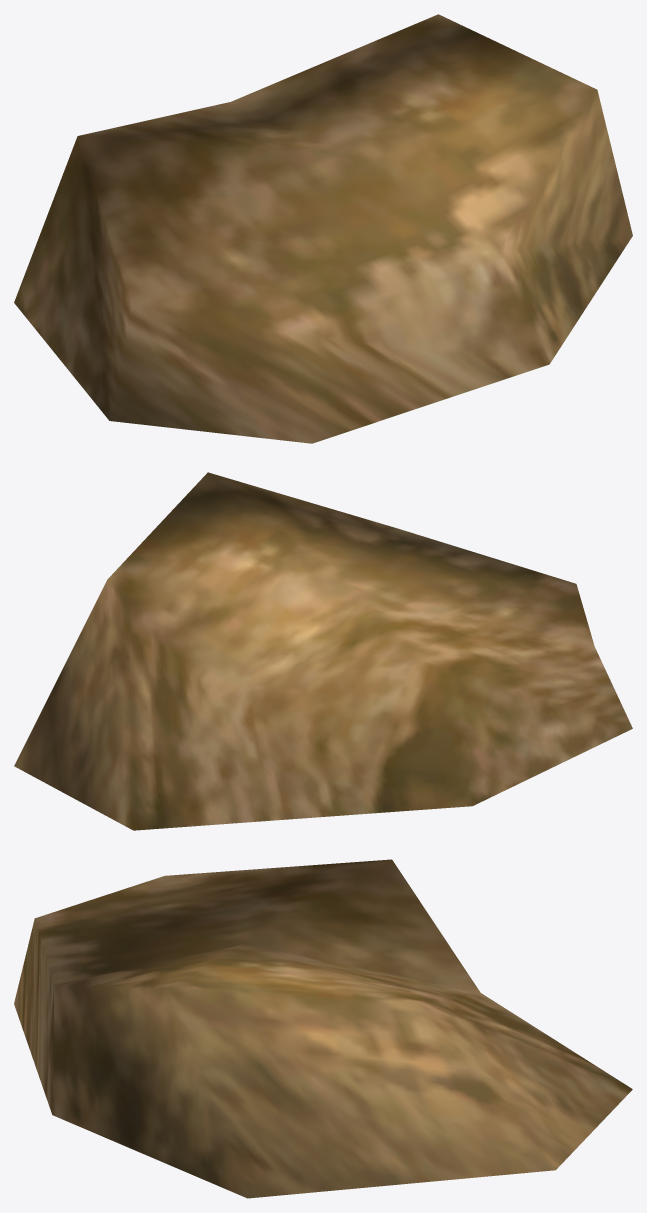
File: M5_Rock04.glb
The picture shows the model from 3 angles, top to bottom: view 1: azimuth 30°, elevation 25°; view 2: azimuth 150°, elevation 25°; view 3: azimuth 270°, elevation 25°; orthographic projection. The views are drawn at different scales.
Visible parts, largest first — view 1: M5_ROCK04; view 2: M5_ROCK04; view 3: M5_ROCK04.
Boxes of the visible parts, bbox=[...] form: M5_ROCK04: bbox=[14, 14, 632, 443]; M5_ROCK04: bbox=[14, 472, 632, 830]; M5_ROCK04: bbox=[14, 859, 632, 1198].
Bounding box in the file's own units: 1.14 × 0.372 × 1.19.
1 material, 1 textured.
